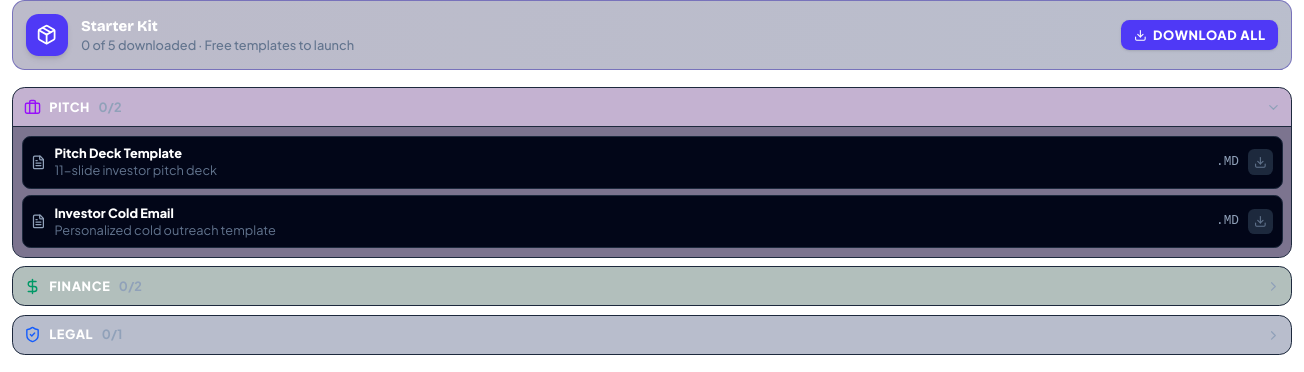
Scenario: StarterKit › changes download icon to checkmark after download
Click the button titled "Download" in the row of "11-slide investor pitch deck" at coordinates (1260, 162), box [1248,150,1273,175]
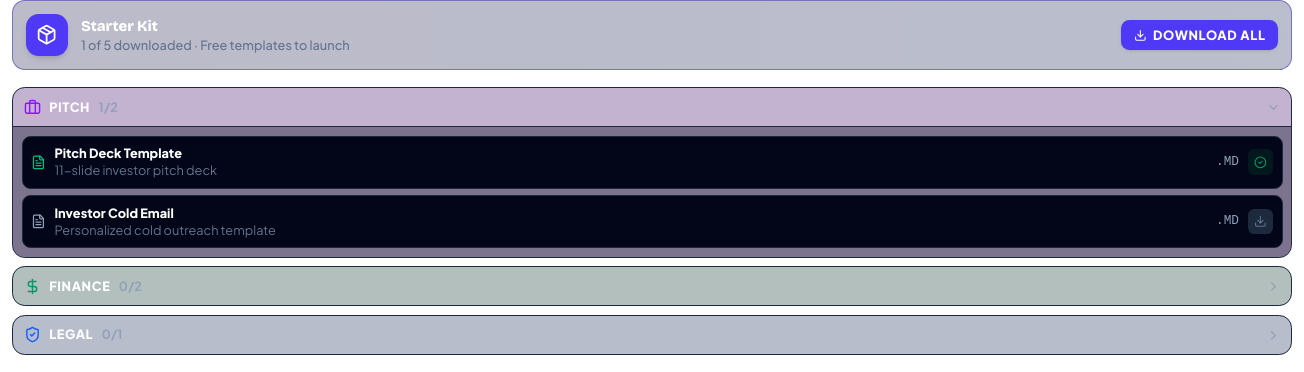
Check: the button titled "Downloaded" is shown, box [1248,150,1273,175]
